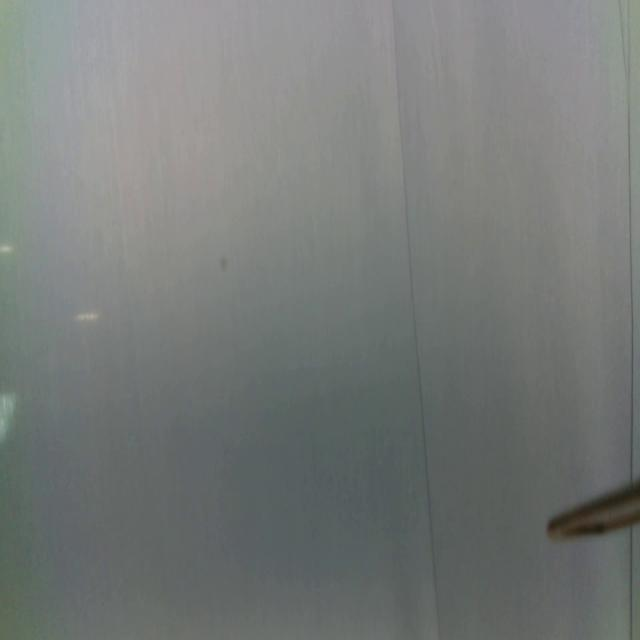crease: (389, 0, 442, 636), (618, 0, 636, 481), (626, 526, 637, 640)
